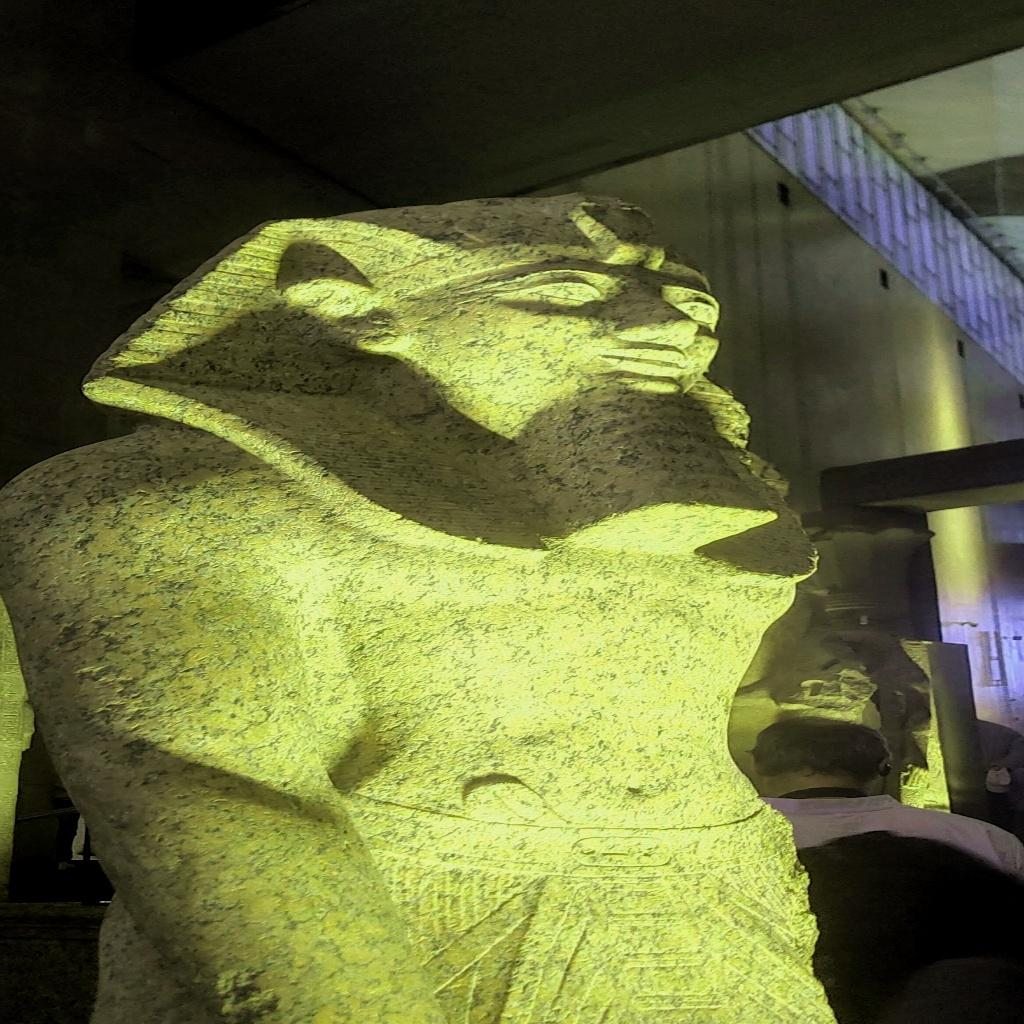Standing Statue of Thutmose III: (6, 190, 844, 1020)
